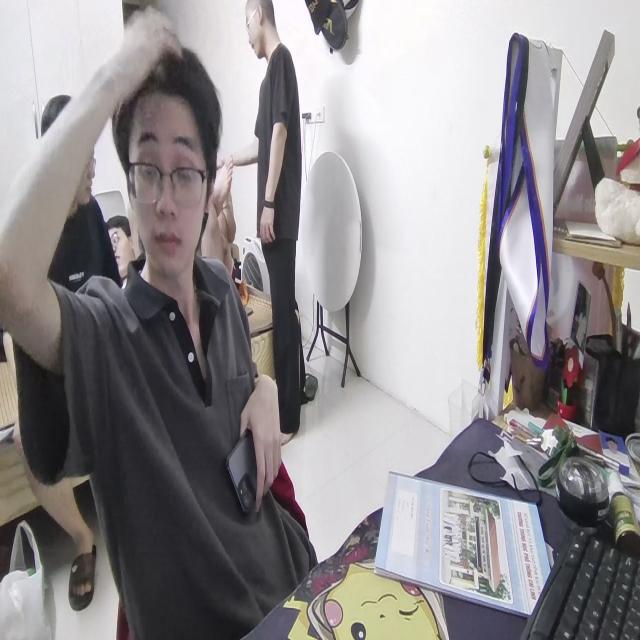book: (375, 469, 557, 619)
extra_person: (235, 0, 307, 450)
phone: (220, 428, 284, 511)
student: (0, 8, 316, 640)
